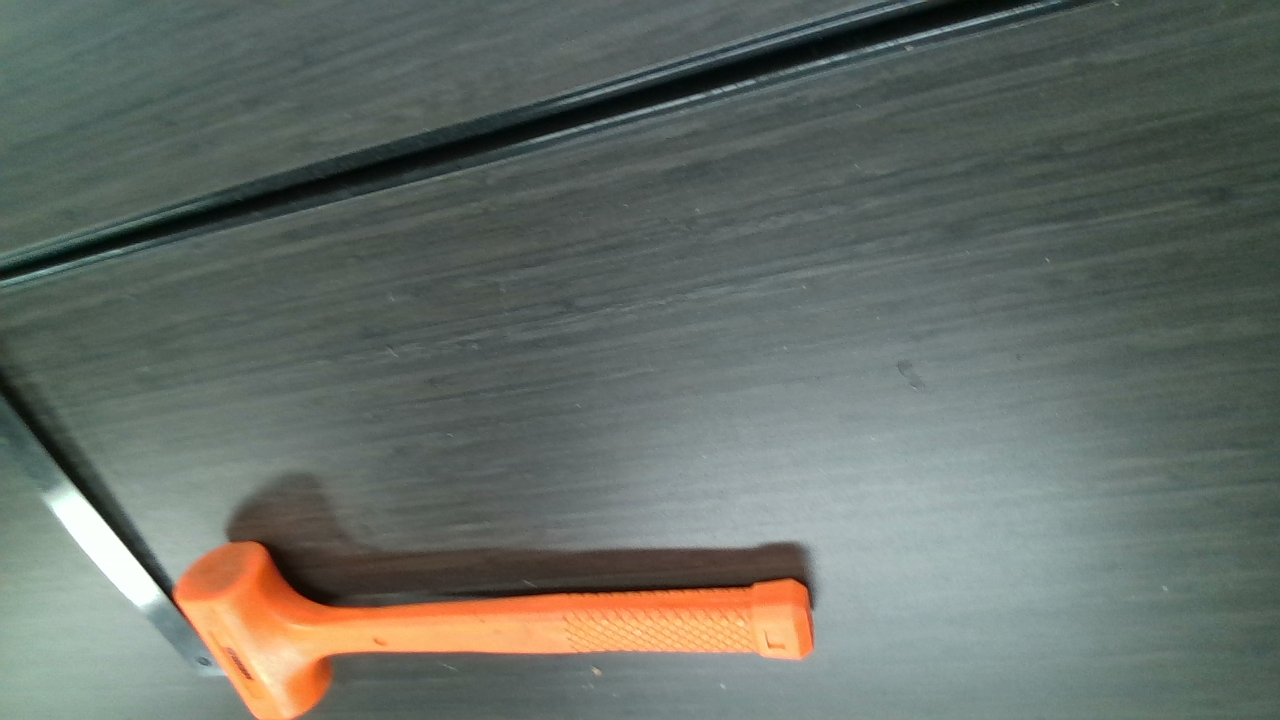Orange Hammer: (177, 544, 813, 718)
